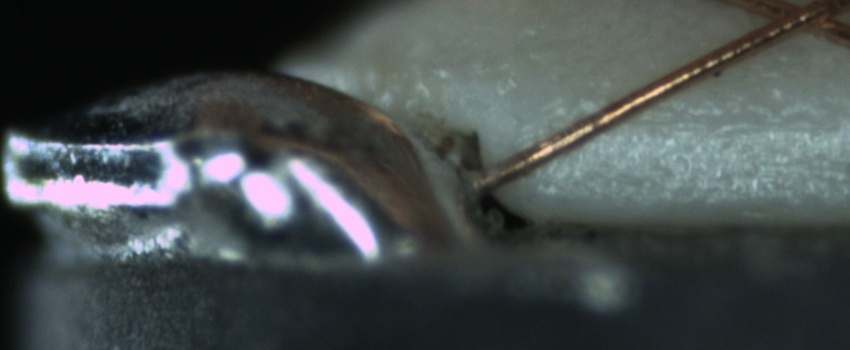CL: (753, 0, 840, 41)
DL: (578, 86, 842, 152)
